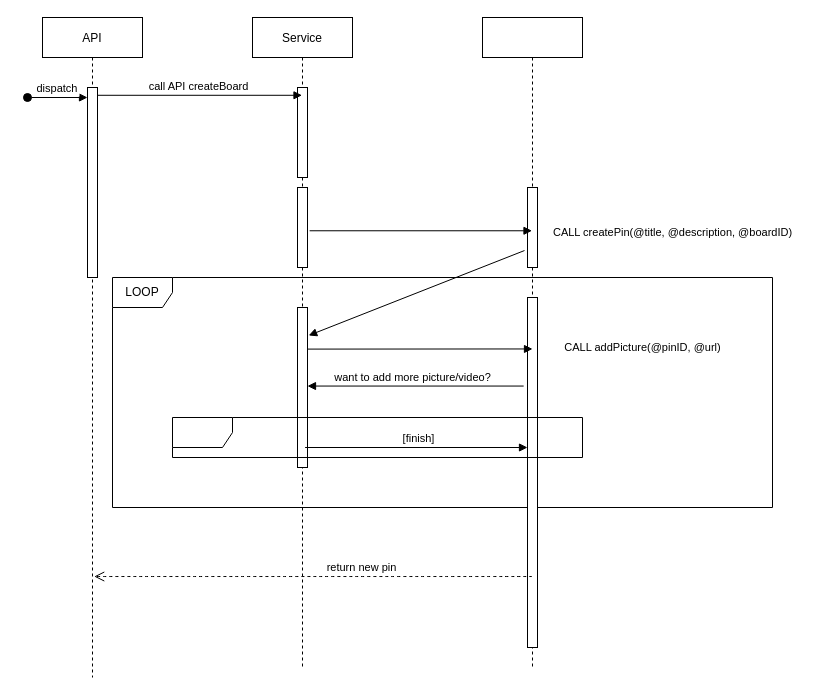
This 820x695 diagram has some shape labels left out. The box of each missing label's shape, as (x1, y1, x2, y2) in pixels:
BREAK: (172, 416, 582, 458)
Database: (482, 16, 582, 668)
